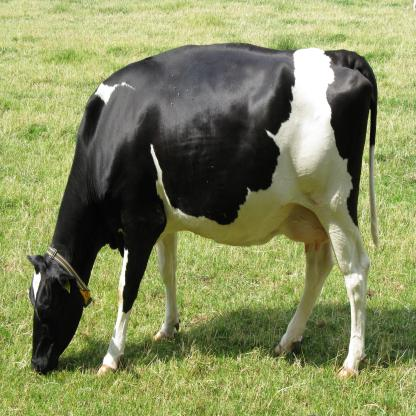cow: (30, 45, 376, 377)
